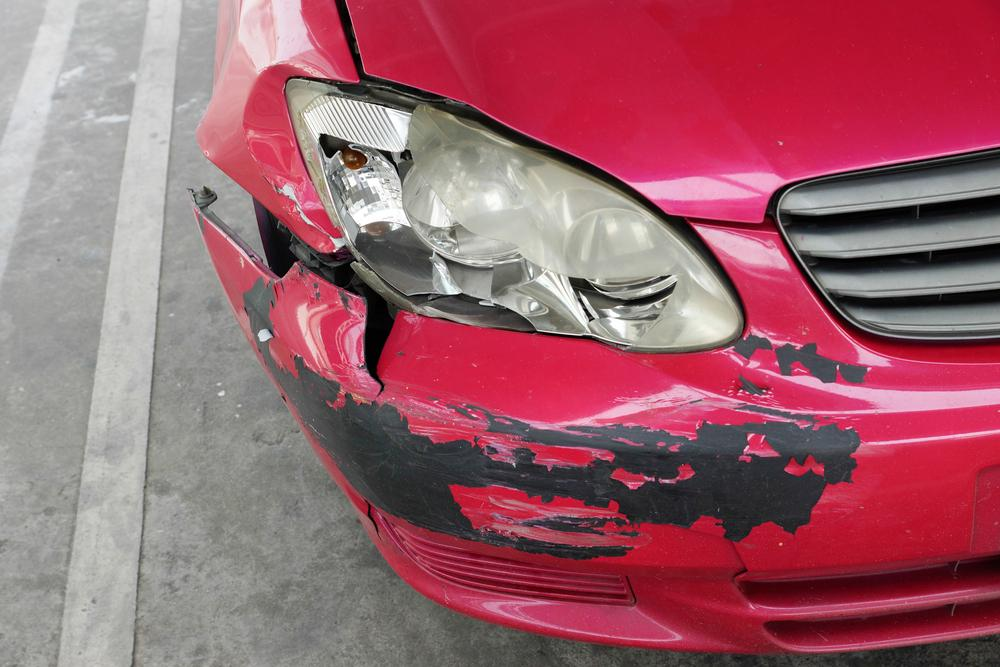crack: (363, 298, 398, 401), (729, 540, 751, 596), (364, 501, 382, 544)
dent: (243, 64, 309, 203)
lamp broken: (286, 77, 743, 350)
scratch: (249, 276, 879, 561)
